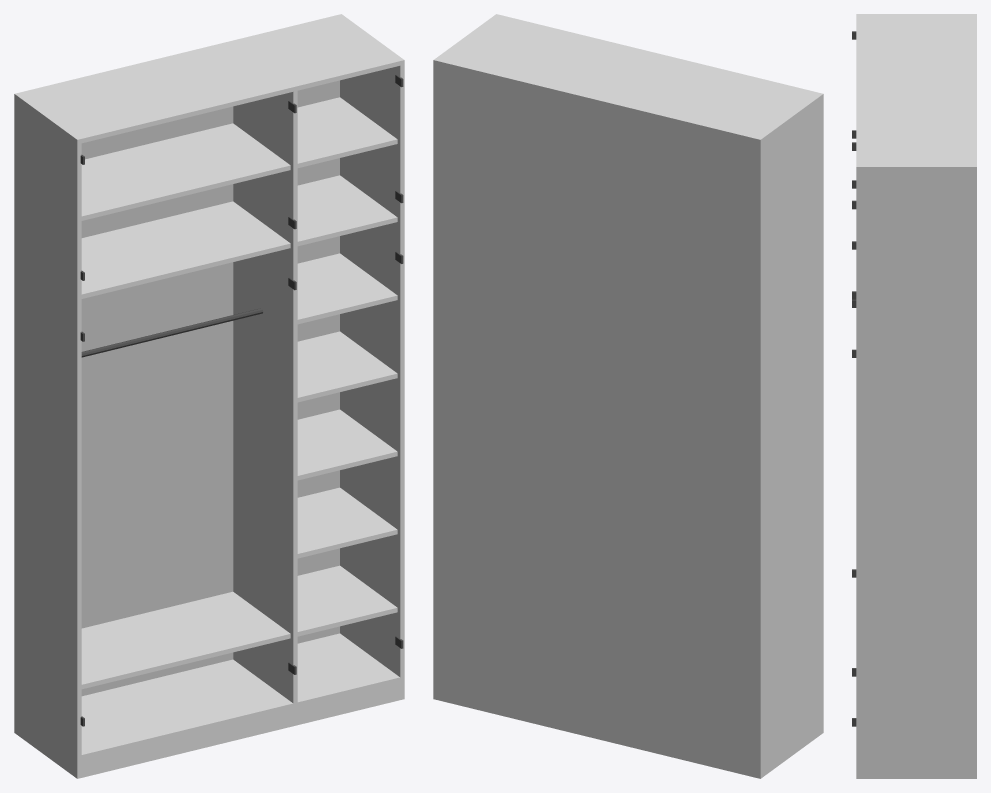
Rendered from Wardrobe8_C1.fbx.
The picture shows the model from 3 angles, left to right: view 1: azimuth 30°, elevation 25°; view 2: azimuth 150°, elevation 25°; view 3: azimuth 270°, elevation 25°; orthographic projection. The views are drawn at different scales.
Visible parts, largest first — view 1: Wardrobe8_C1; view 2: Wardrobe8_C1; view 3: Wardrobe8_C1.
Boxes of the visible parts, left/top/right/bottom form: Wardrobe8_C1: left=14, top=14, right=404, bottom=778; Wardrobe8_C1: left=433, top=14, right=823, bottom=778; Wardrobe8_C1: left=852, top=14, right=976, bottom=778.
Size of the model in its own units: 150 by 280 by 51.79.
